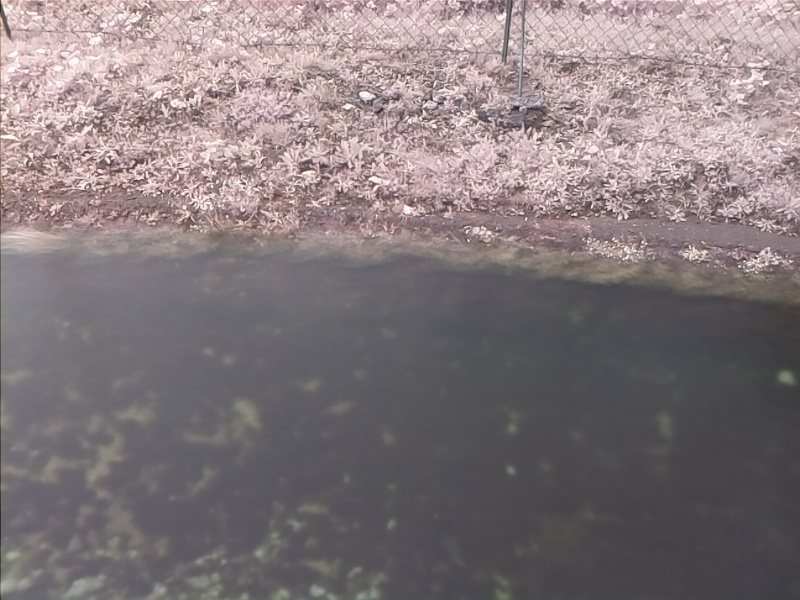Water: (1, 224, 800, 598)
